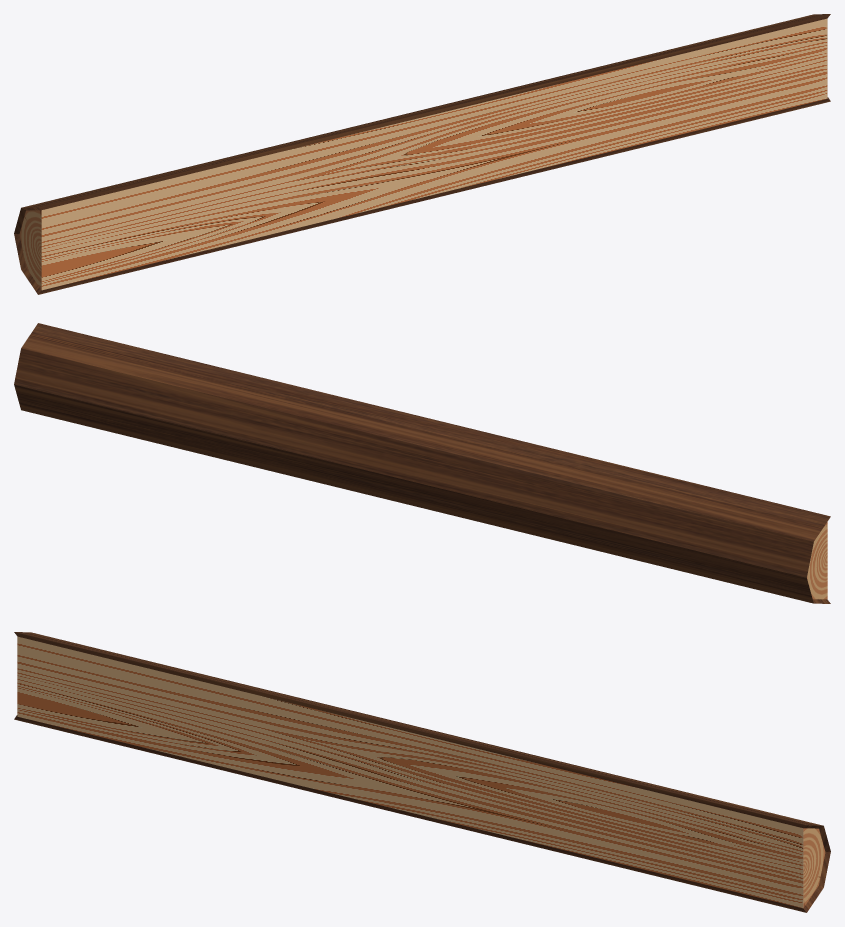
File: Half Log.fbx
The picture shows the model from 3 angles, top to bottom: view 1: azimuth 30°, elevation 25°; view 2: azimuth 150°, elevation 25°; view 3: azimuth 330°, elevation 25°; orthographic projection.
Parts seen in each view (by area): view 1: Log_half; view 2: Log_half; view 3: Log_half.
Boxes of the visible parts, x1,y1,x2,y2 form: Log_half: (14, 14, 830, 294); Log_half: (14, 323, 830, 603); Log_half: (14, 632, 830, 912).
Size of the model in its own units: 114 by 12.02 by 6.01.
